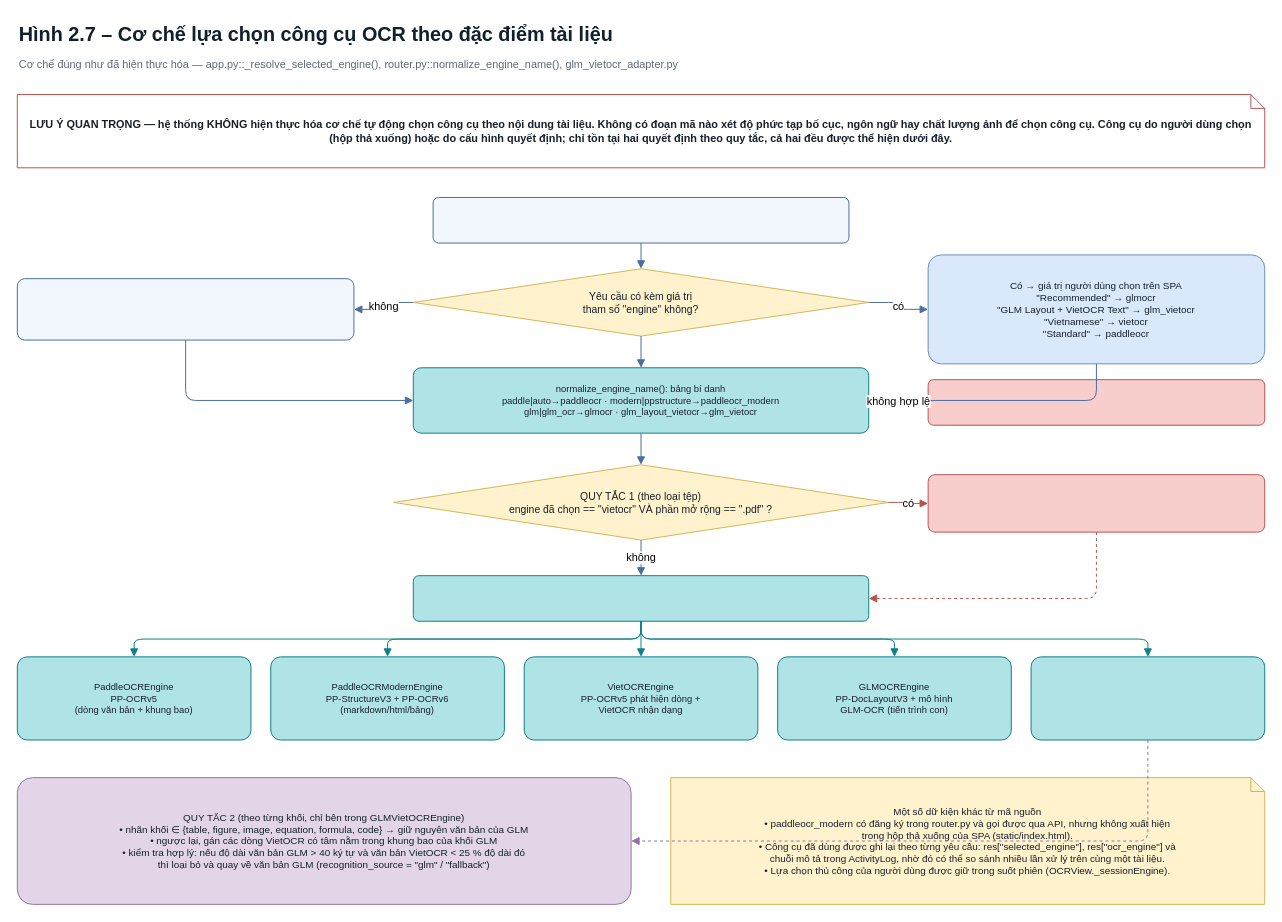
Image size: 1282x922. Some labels were removed from this diagram. Here are the shapes that lost their labels. From the top down, the centre of each, then its label:
pixel 640 220: Yêu cầu OCR: {file_id, page, engine?}
pixel 185 309: Không → dùng cfg.OCR_ENGINE (biến OCR_ENGINE, mặc định "paddle")
pixel 1096 402: Bí danh không hợp lệ → ValueError → HTTP 400
pixel 1096 503: engine thực thi = "paddleocr" inference_status = "fallback_to_paddle_for_pdf"
pixel 640 598: engine thực thi → router.get_engine(name).run(image)
pixel 1147 698: GLMVietOCREngine Bố cục GLM + văn bản VietOCR
